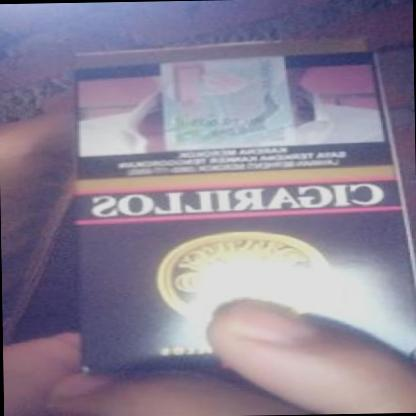objects: (69, 38, 416, 370)
